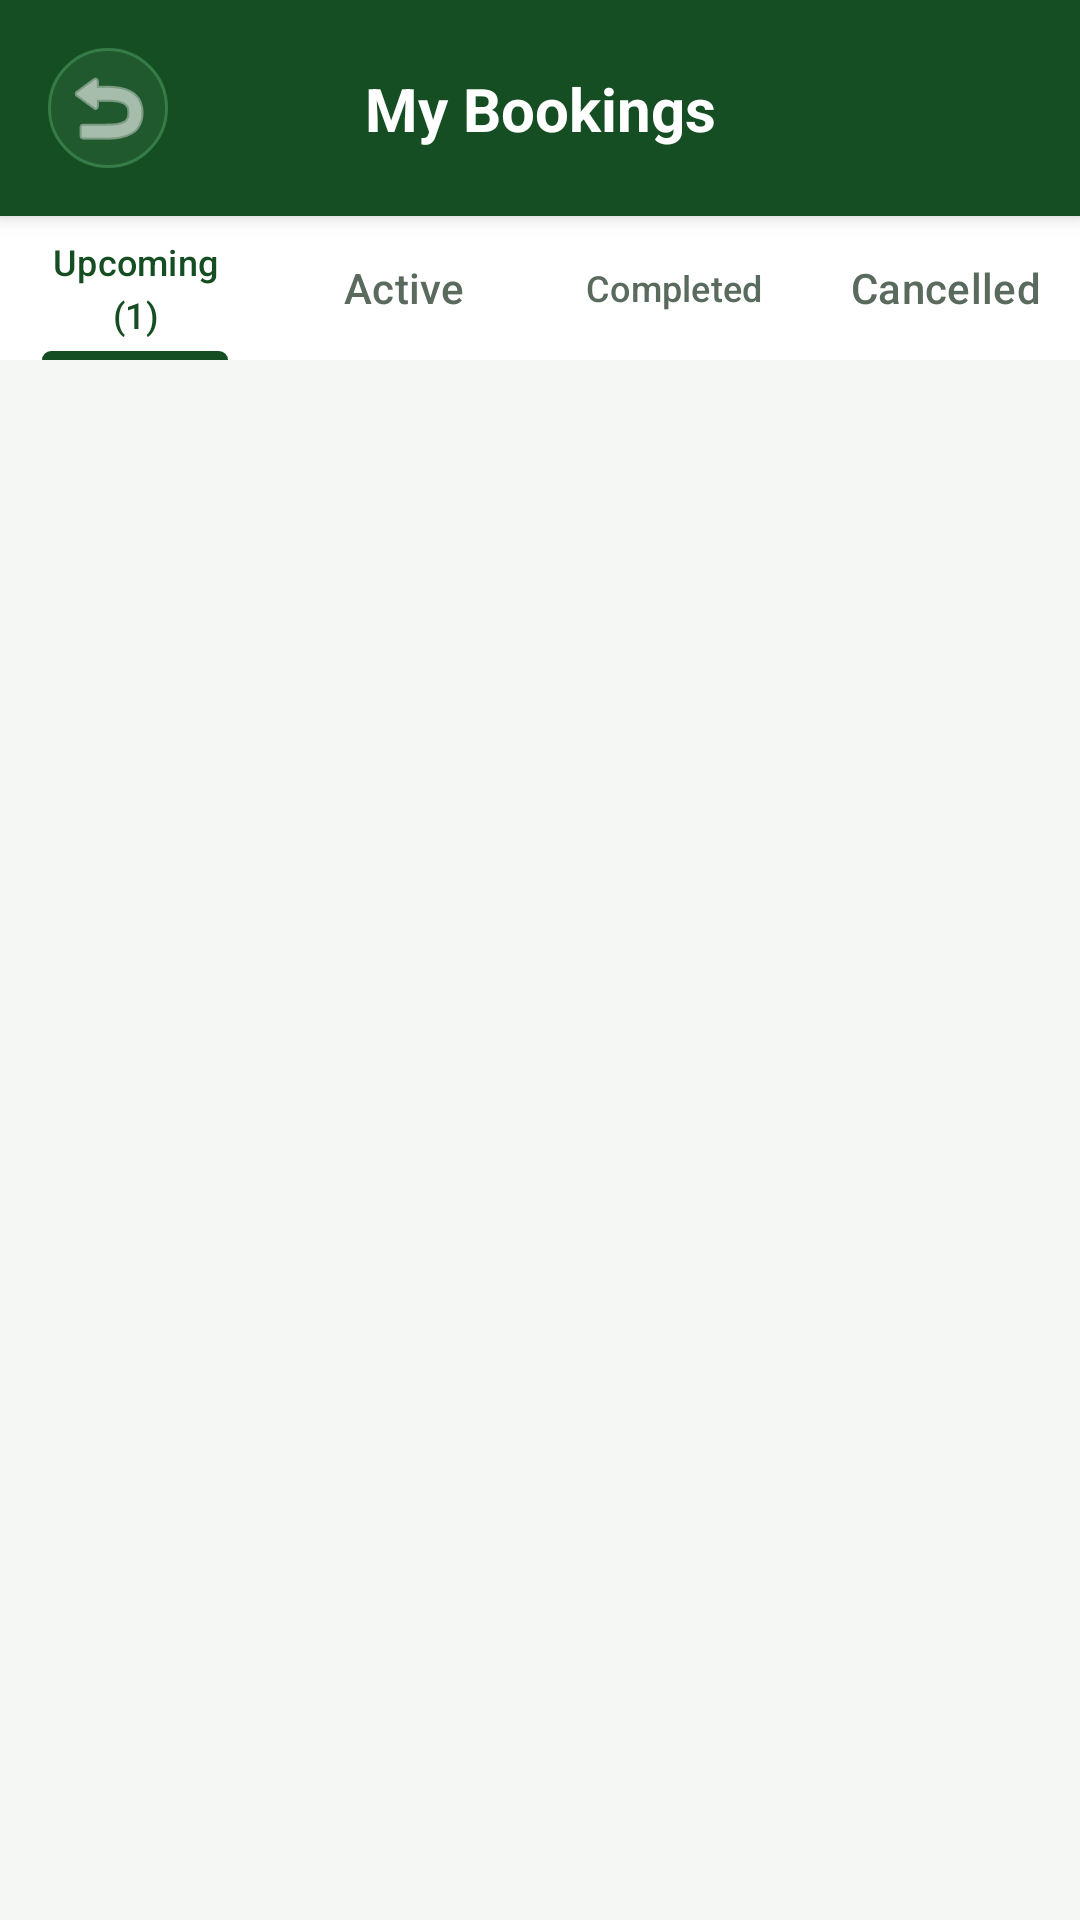

Named icons in this screenshot (1080*1920) and their bounding boxes, [x1=x1, y1=y1, x2=x2, y2=y2]:
revert: [x1=48, y1=48, x2=168, y2=168]
